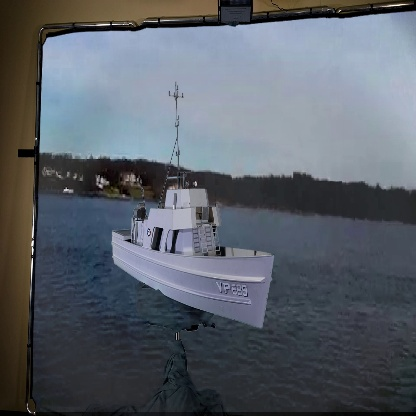YP689: (110, 73, 276, 328)
